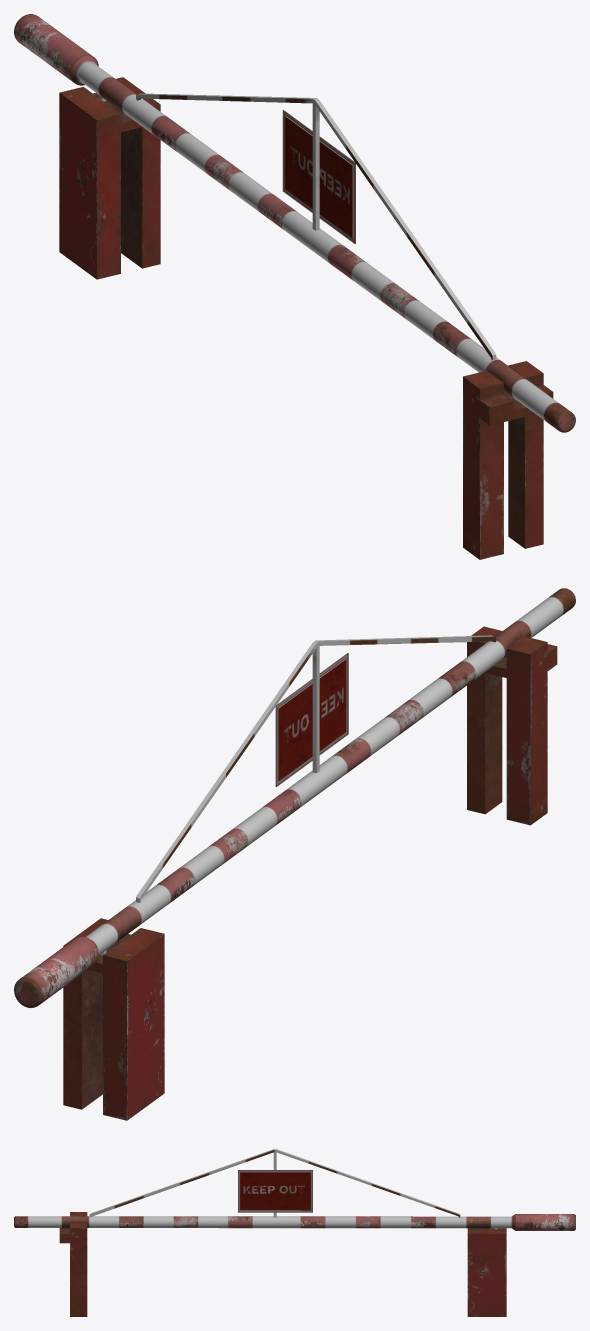
Rendered from barreira_estrada.glb.
3 renders of one model, top to bottom at view 1: azimuth 30°, elevation 25°; view 2: azimuth 150°, elevation 25°; view 3: azimuth 270°, elevation 25°, orthographic. The views are drawn at different scales.
Parts seen in each view (by area): view 1: pole, right stand, left stand, sign; view 2: pole, right stand, left stand, sign; view 3: pole, right stand, sign, left stand.
Part boxes in pixels (left/top/right/bottom): pole: left=14, top=14, right=575, bottom=432; right stand: left=59, top=77, right=160, bottom=279; left stand: left=463, top=361, right=553, bottom=559; sign: left=282, top=110, right=355, bottom=243; pole: left=14, top=588, right=575, bottom=1008; right stand: left=63, top=918, right=164, bottom=1120; left stand: left=467, top=626, right=557, bottom=825; sign: left=275, top=653, right=348, bottom=786; pole: left=14, top=1149, right=575, bottom=1230; right stand: left=467, top=1228, right=506, bottom=1316; sign: left=238, top=1170, right=312, bottom=1212; left stand: left=59, top=1212, right=87, bottom=1316.
Bounding box in the file's own units: 0.8358 × 3.85 × 12.29.
3 materials, 3 textured.
